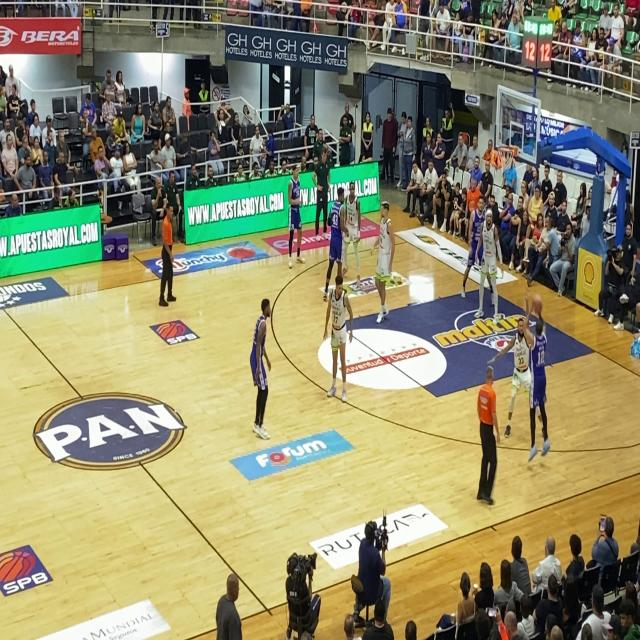Ball: (532, 292, 542, 310)
referee: (481, 363, 500, 507), (163, 202, 174, 300)
team1: (329, 273, 348, 406), (378, 200, 393, 314), (349, 180, 361, 264)
team2: (255, 298, 271, 436), (332, 183, 346, 275), (290, 168, 300, 254)
ubasket: (498, 146, 514, 172)
